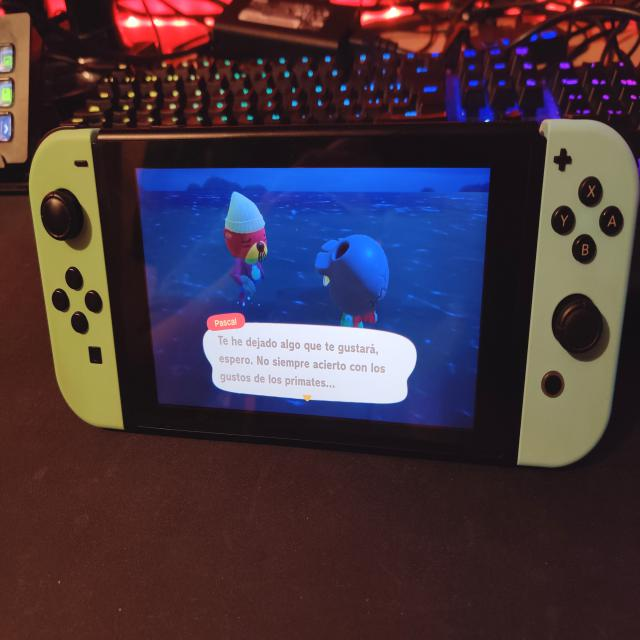text_bubble: (201, 309, 421, 412)
